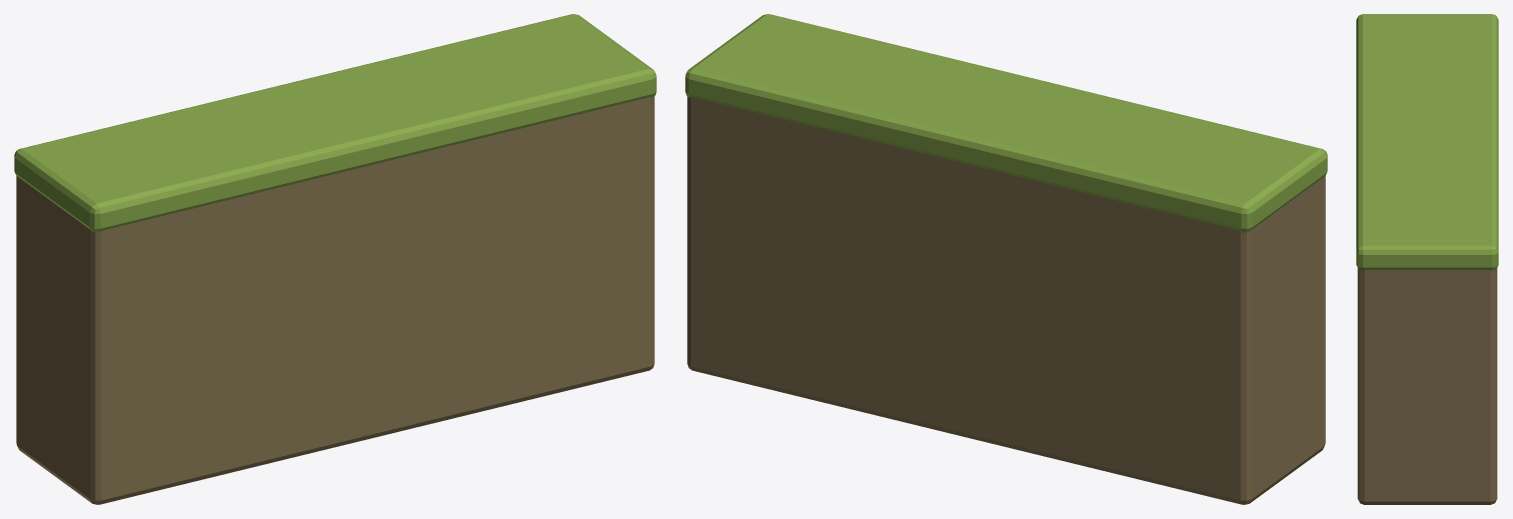
Rendered from SM_Platform_1m_03_C.fbx.
3 views of the same model, side by side, from view 1: azimuth 30°, elevation 25°; view 2: azimuth 150°, elevation 25°; view 3: azimuth 270°, elevation 25° (orthographic). The views are drawn at different scales.
Parts seen in each view (by area): view 1: polySurface83; view 2: polySurface83; view 3: polySurface83.
Boxes of the visible parts, <box> form: polySurface83: <box>14,14,656,504</box>; polySurface83: <box>685,14,1327,504</box>; polySurface83: <box>1356,14,1498,504</box>.
Bounding box in the file's own units: 402 × 205 × 102.
